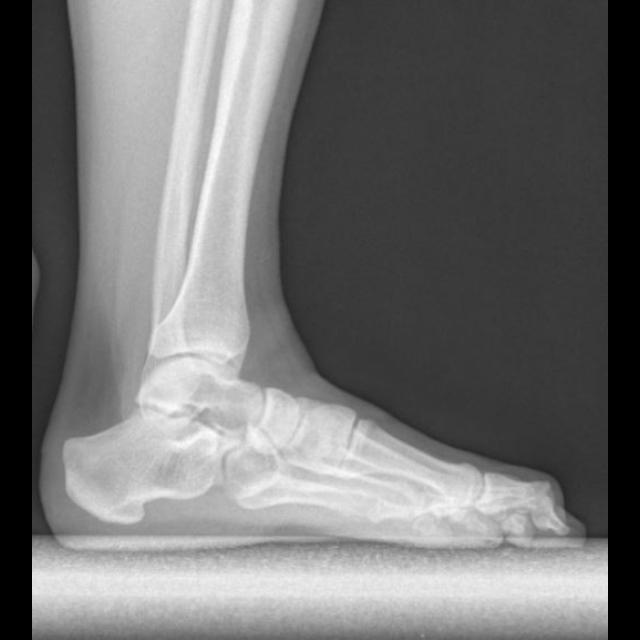a: (61, 406, 242, 525)
b: (245, 386, 300, 453)
c: (334, 418, 480, 504)
